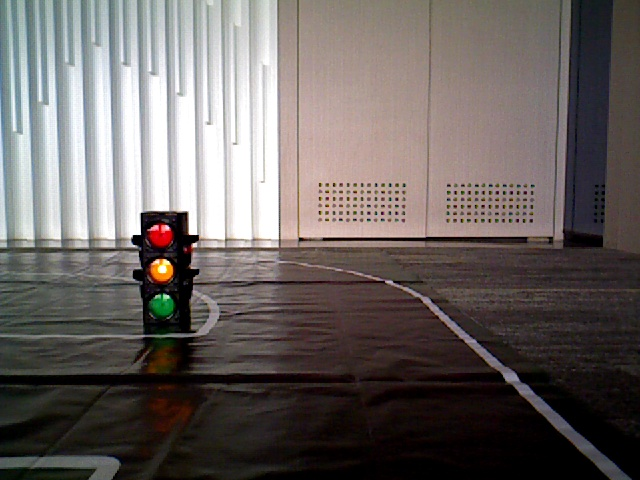yellow: (142, 218, 178, 322)
